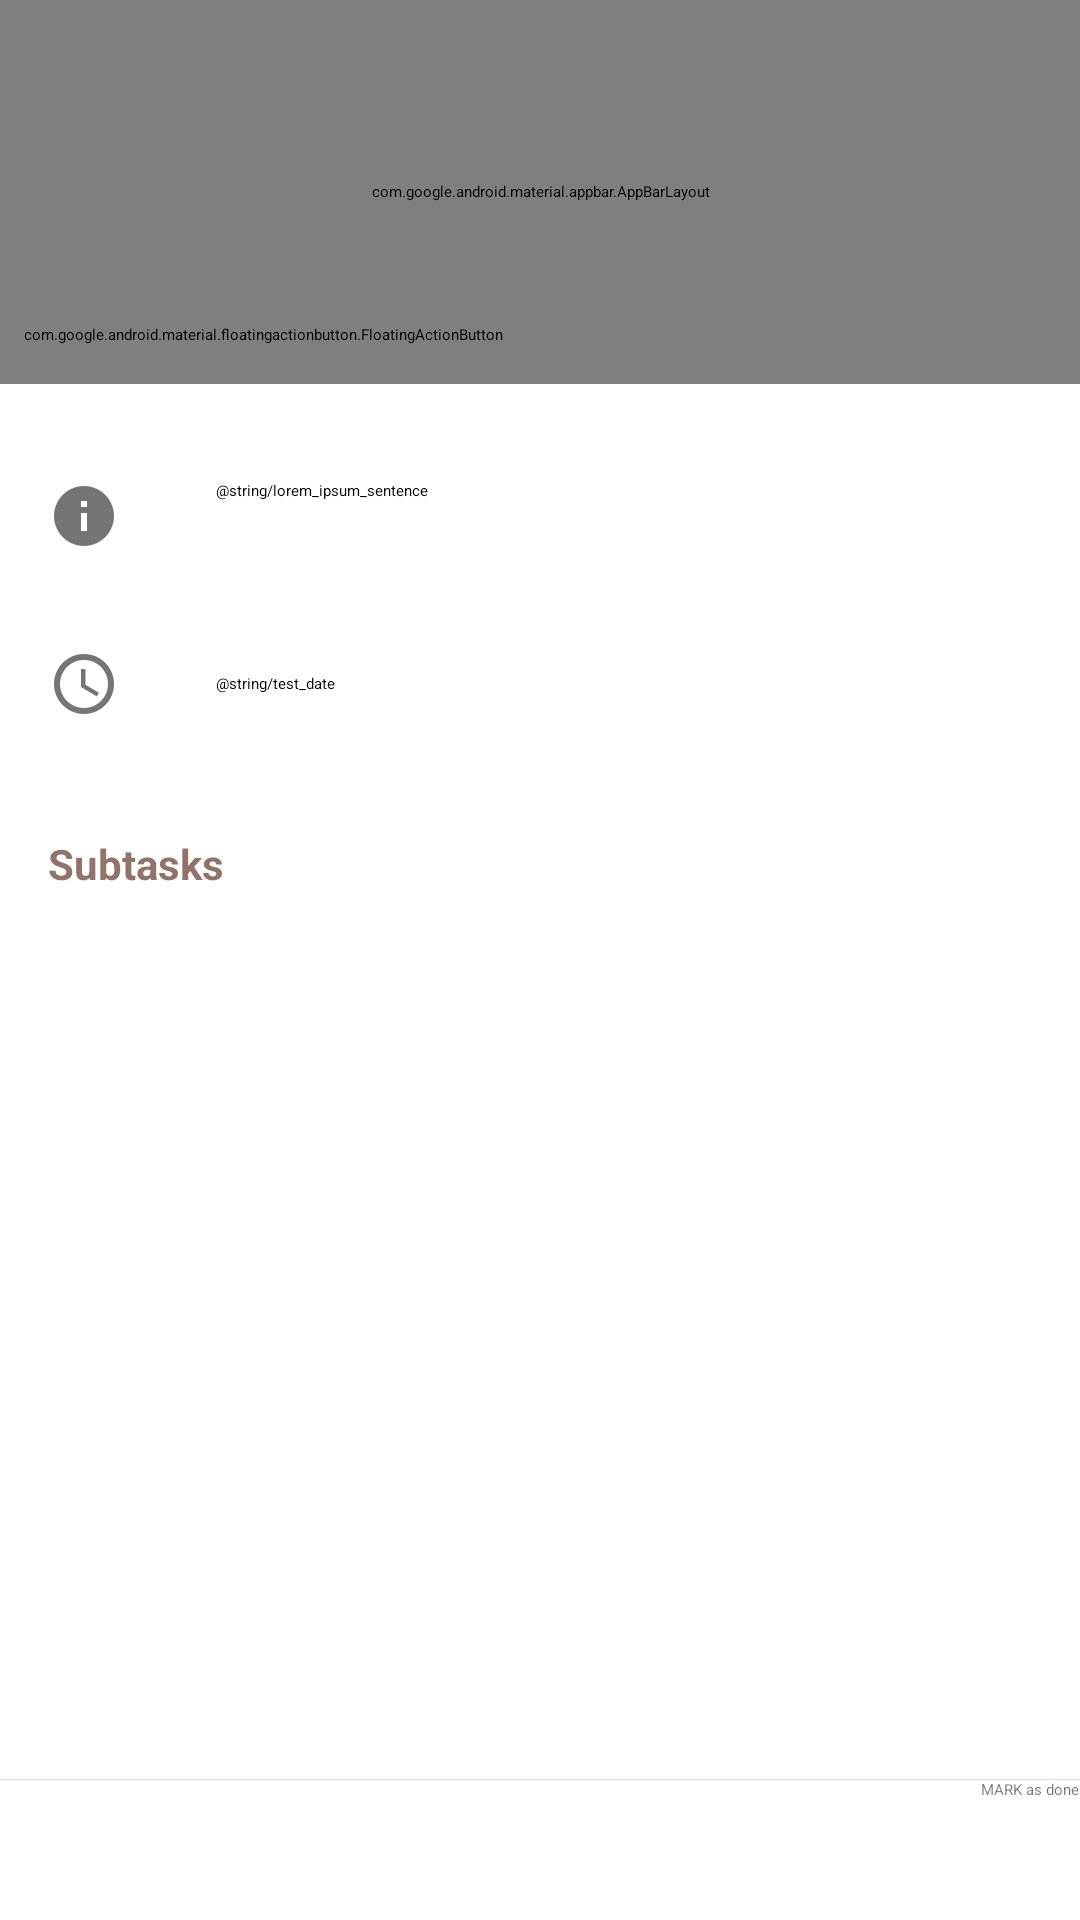

Where to tap for icons on this 1080x1920 app screen, as (x=x, y=y):
info: (x=84, y=516)
schedule: (x=84, y=684)
